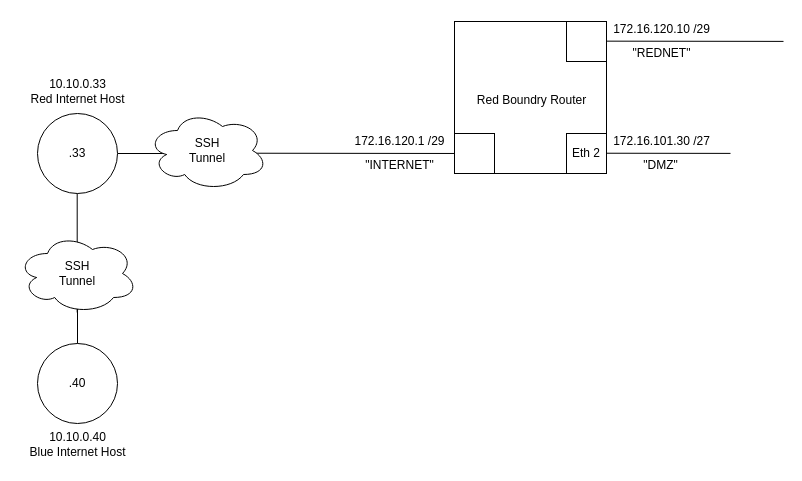
Image size: 802x481. Some labels were removed from this diagram. Here are the shapes that lost their labels. From the top down, the box of each, then its label:
(566, 20, 606, 62): Eth 1
(454, 132, 494, 174): Eth 0
